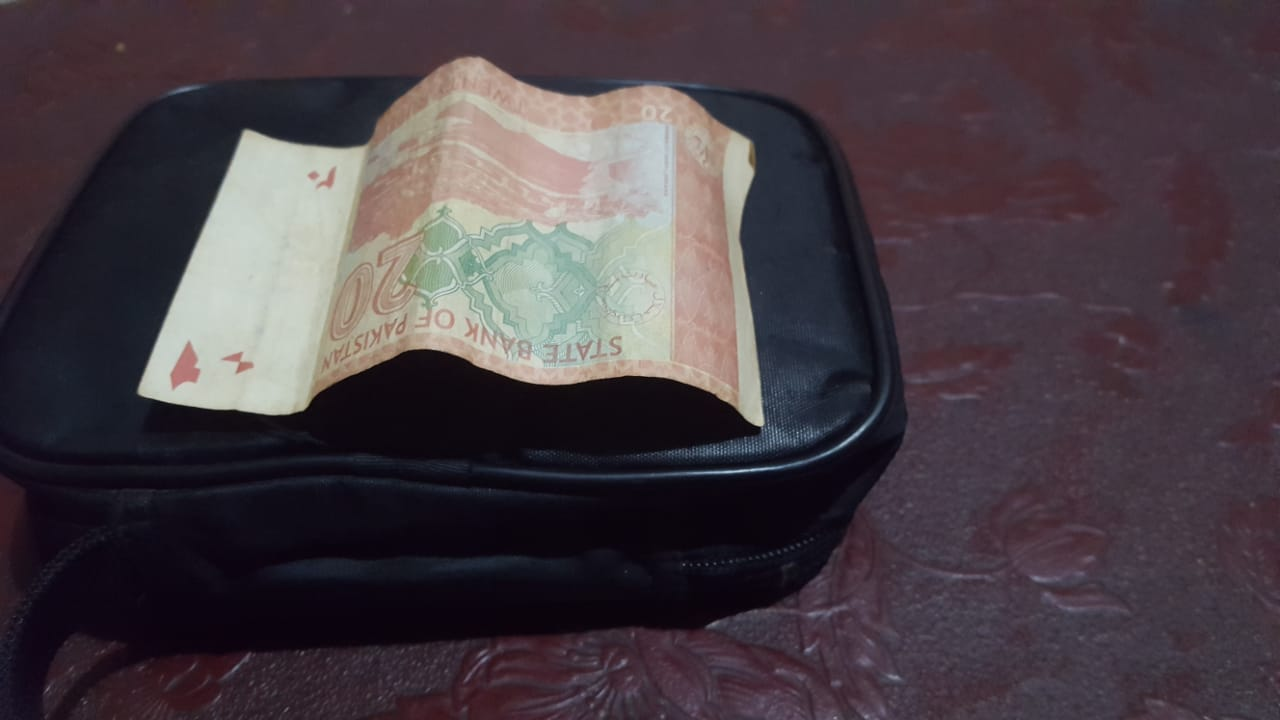20 rupee: (166, 71, 816, 417)
